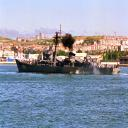Fragata: (16, 31, 124, 75)
